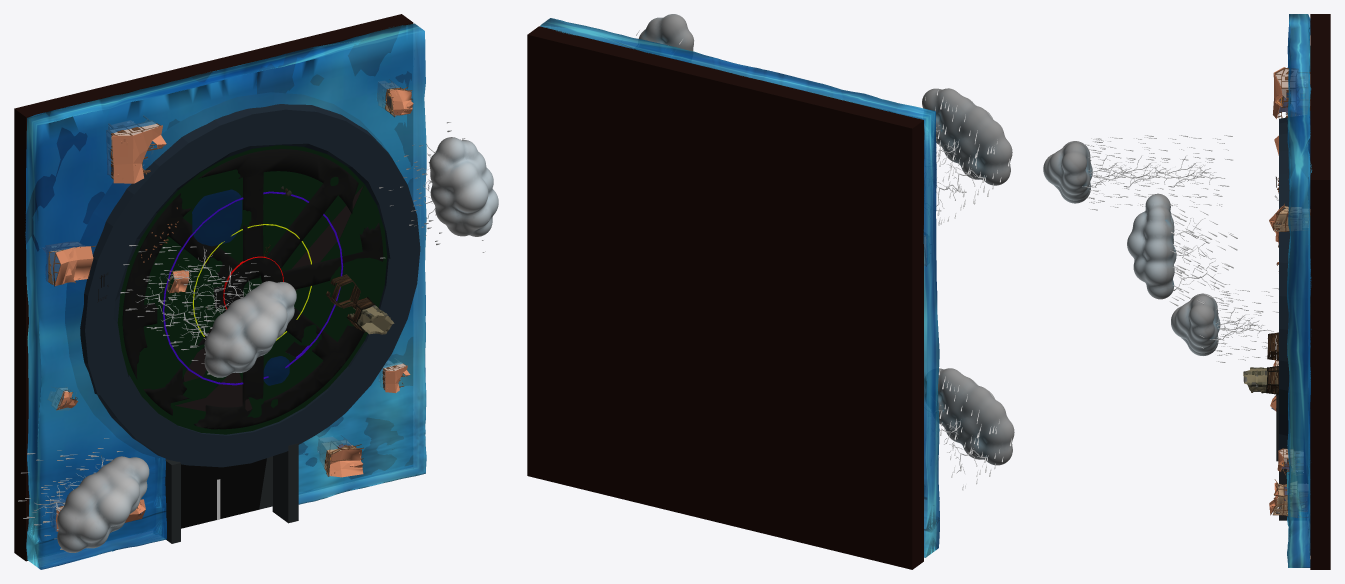
Rendered from Arena_to_be_scaled.obj.
The picture shows the model from 3 angles, left to right: view 1: azimuth 30°, elevation 25°; view 2: azimuth 150°, elevation 25°; view 3: azimuth 270°, elevation 25°; orthographic projection. The views are drawn at different scales.
Visible parts, largest first — view 1: gtmfc_house_small_damaged.002; view 2: gtmfc_house_small_damaged.002; view 3: gtmfc_house_small_damaged.002.
Part boxes in pixels (x1,y1,x2,y2): gtmfc_house_small_damaged.002: (14,14,498,569); gtmfc_house_small_damaged.002: (527,14,1014,569); gtmfc_house_small_damaged.002: (1043,14,1330,569).
Size of the model in its own units: 3.6 by 3.59 by 2.35.
